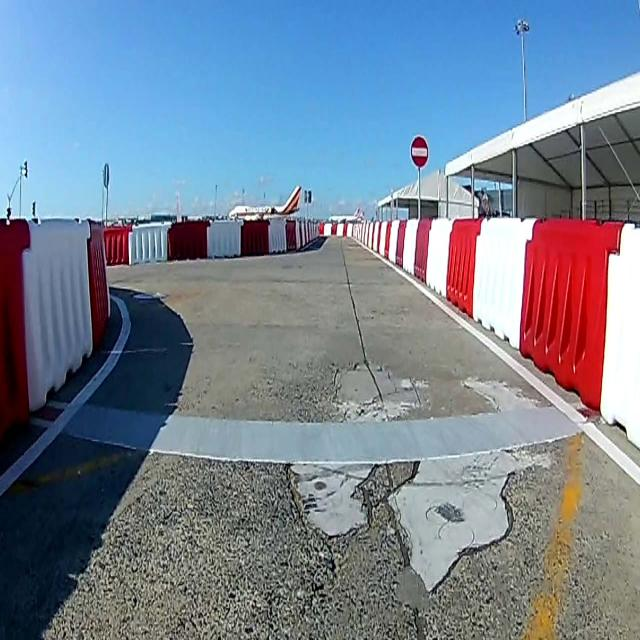girisyok: (409, 135, 429, 165)
